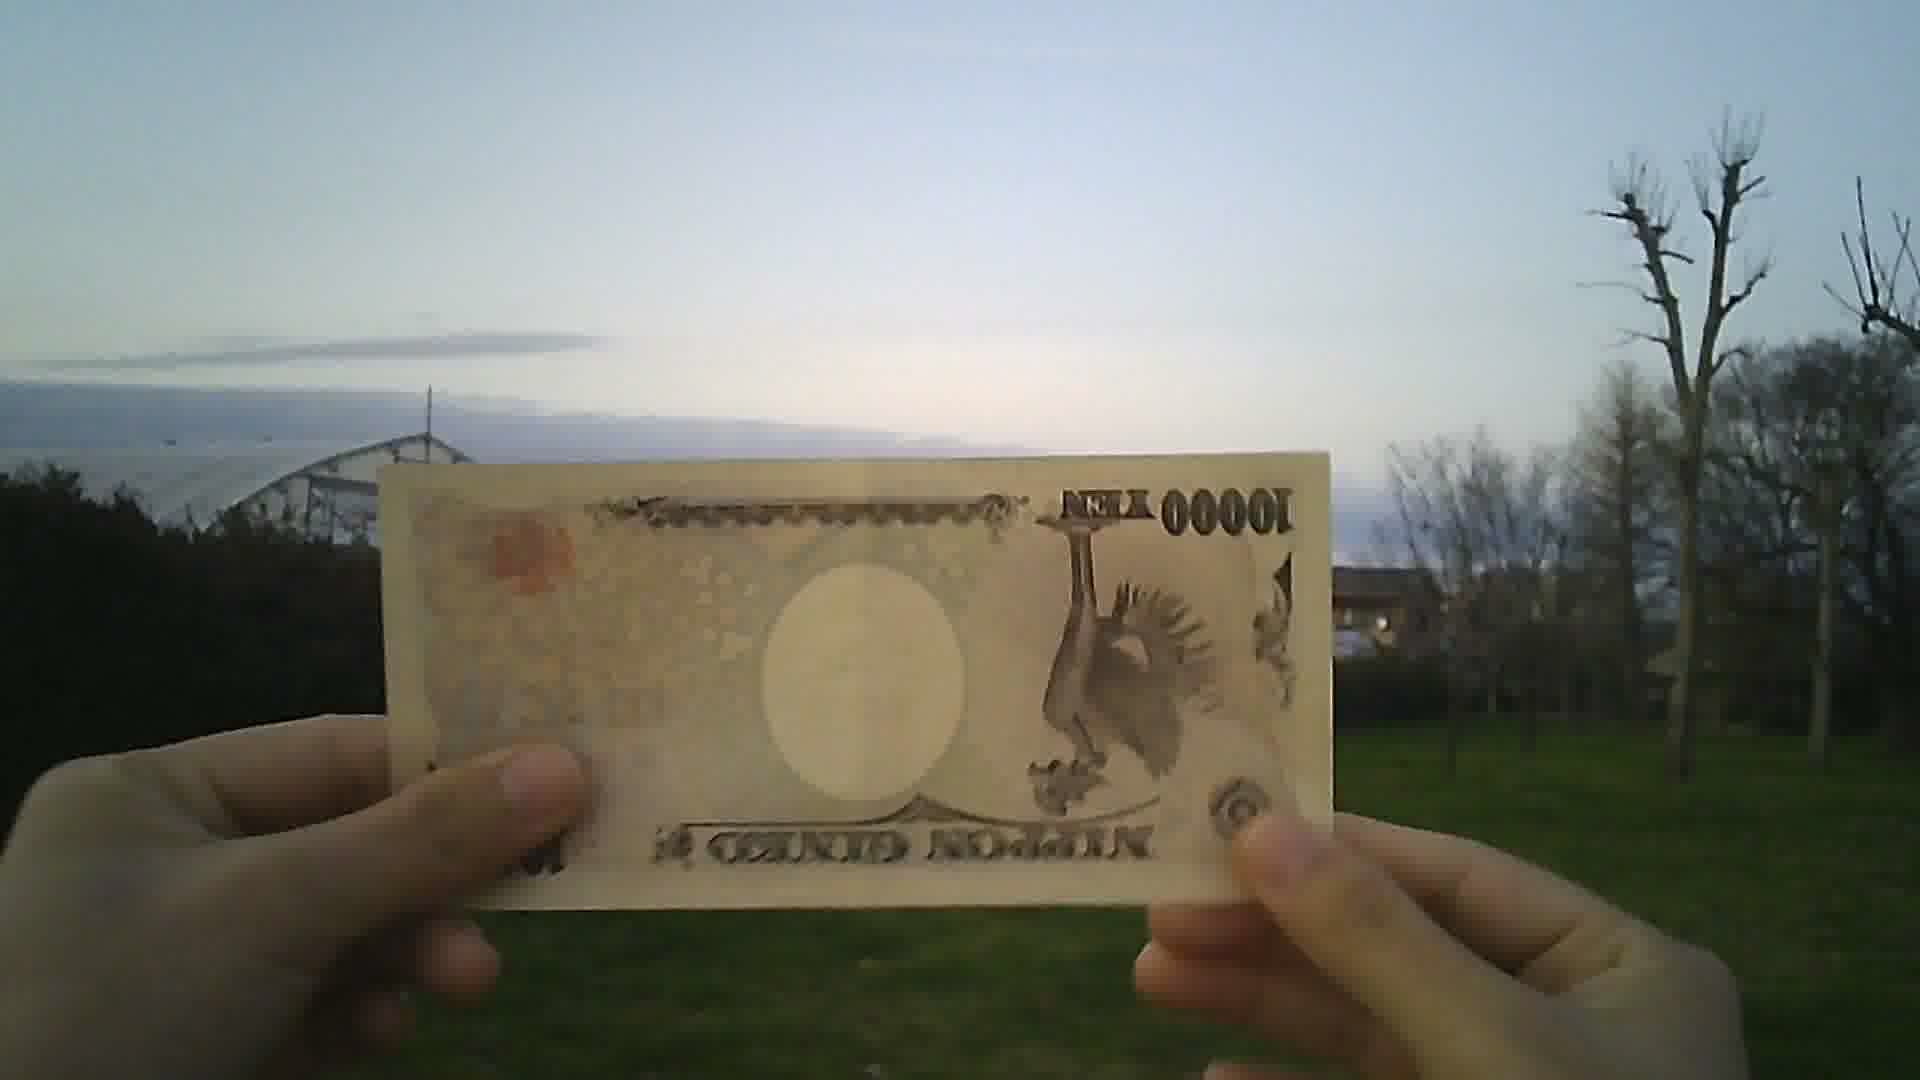10,000 Yen: (371, 446, 1369, 878)
